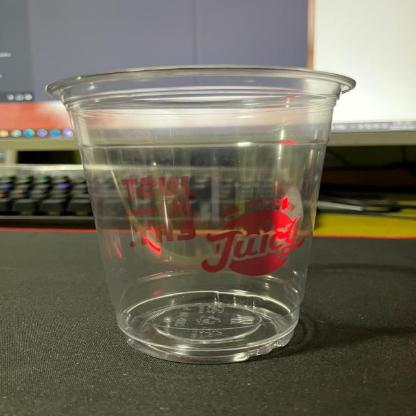Plastic Cup: (44, 65, 360, 367)
